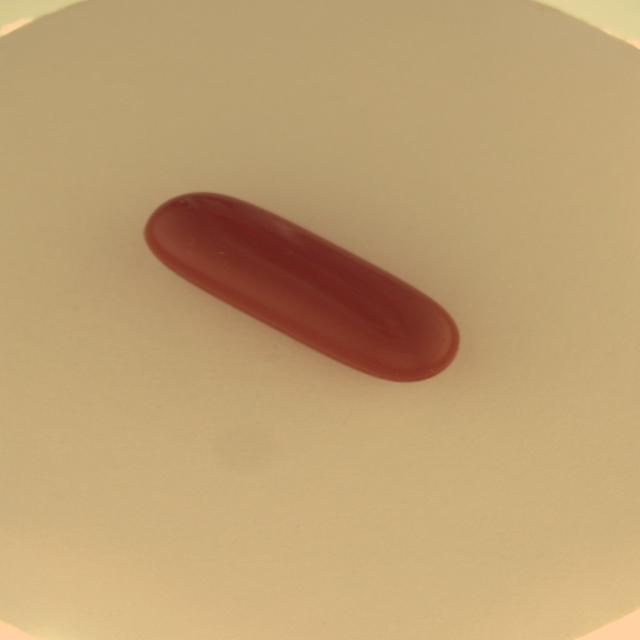Oval: (142, 189, 456, 384)
